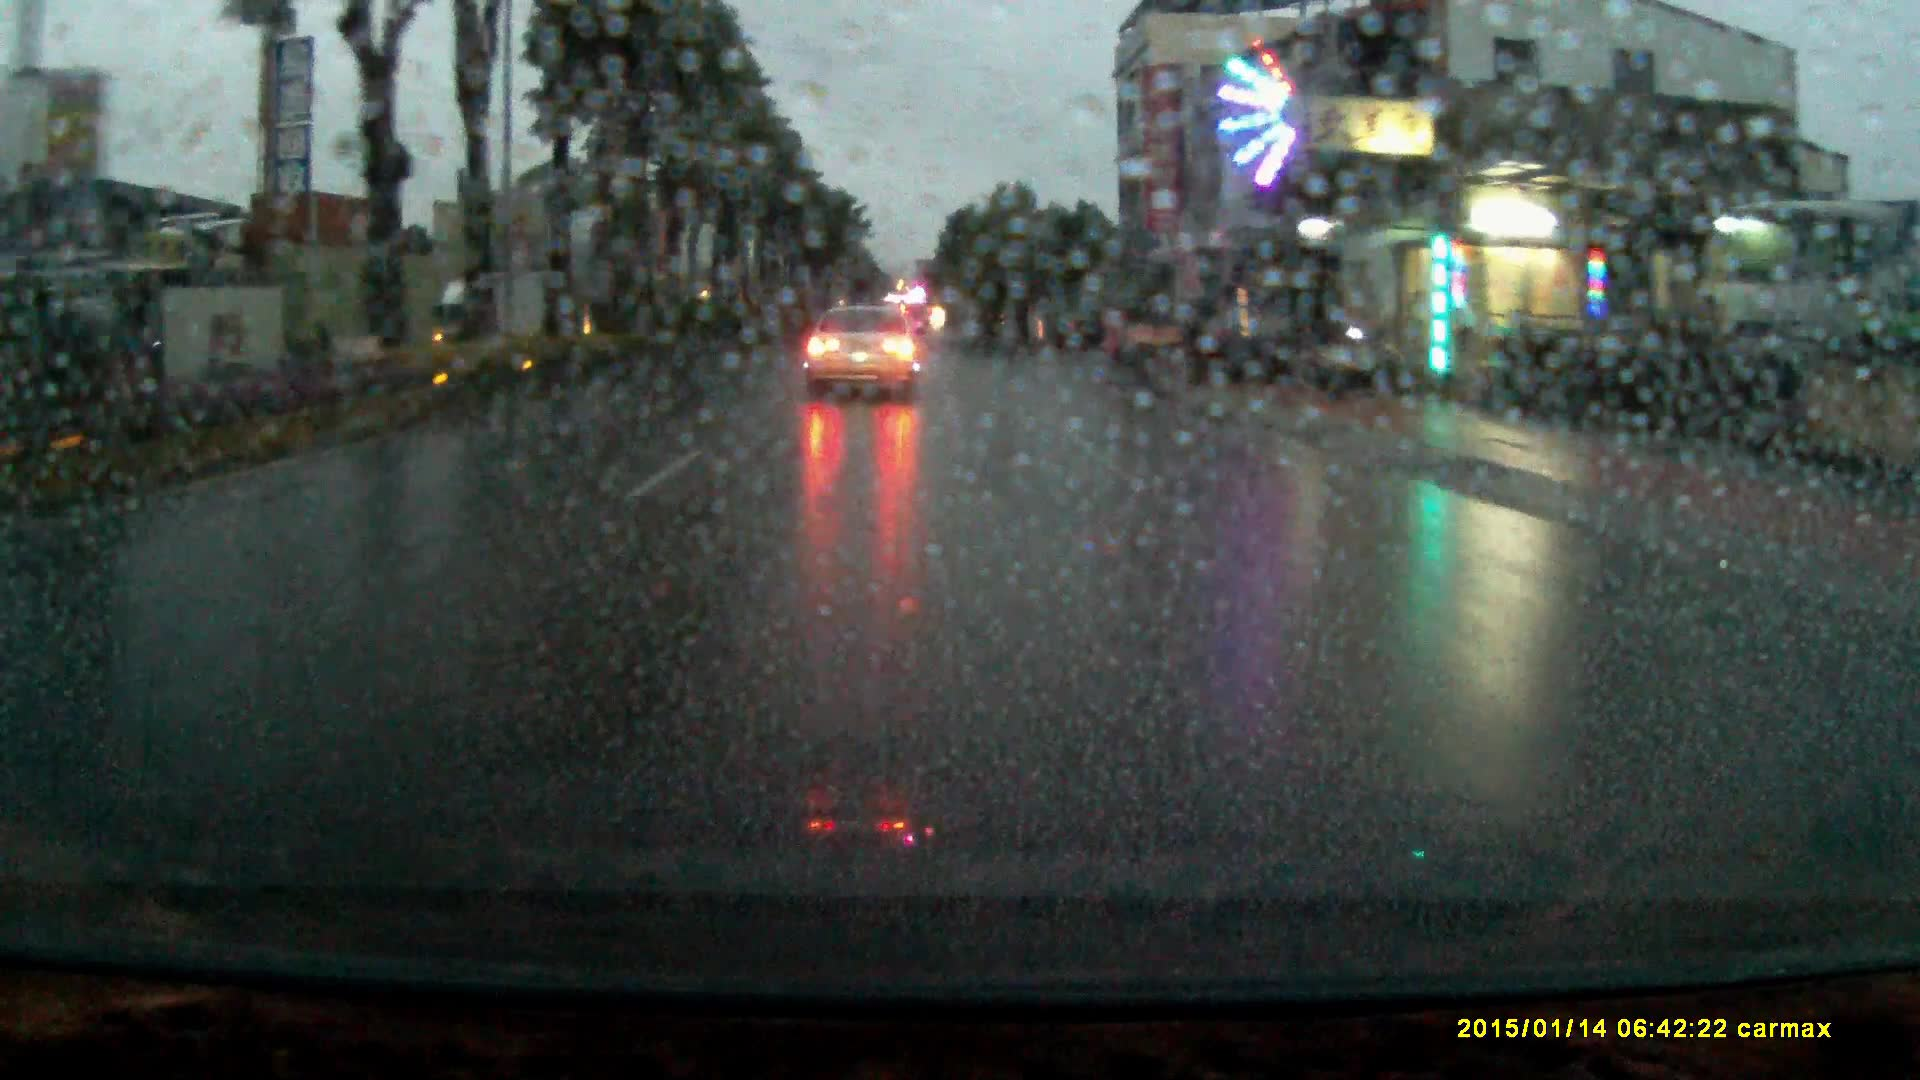vehicle: (1698, 203, 1920, 401), (804, 306, 918, 411), (433, 265, 546, 353), (1040, 313, 1106, 363)
